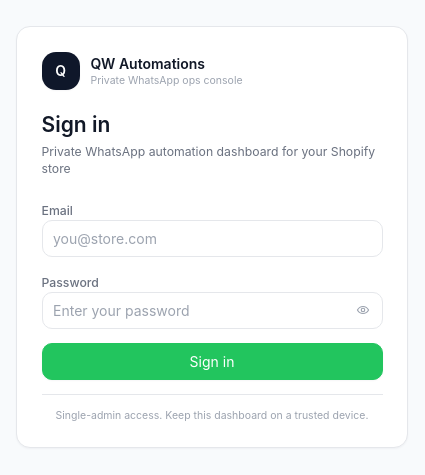
Scenario: validates missing password
Type "admin@example.com" into the field labelled "Email" at (212, 238), box [42,220,382,256]
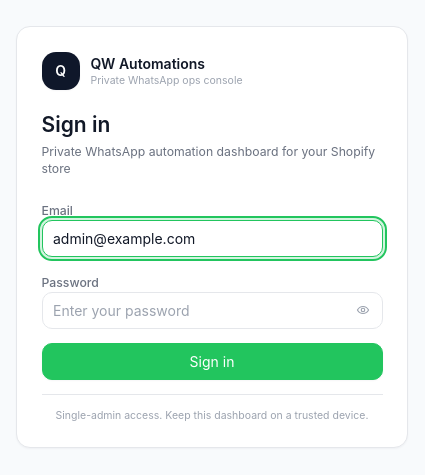
Click the button "Sign in" at (212, 361), box [42,342,382,380]
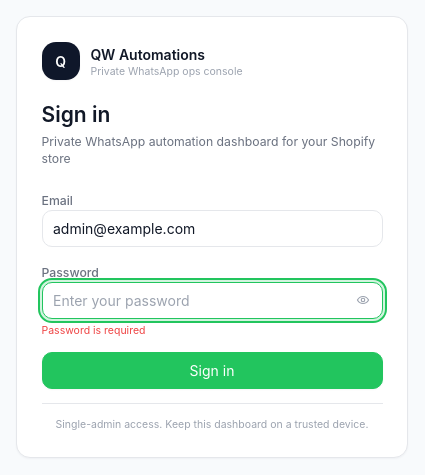
expect the text "Password is required" is shown: met, box [42,324,146,337]
